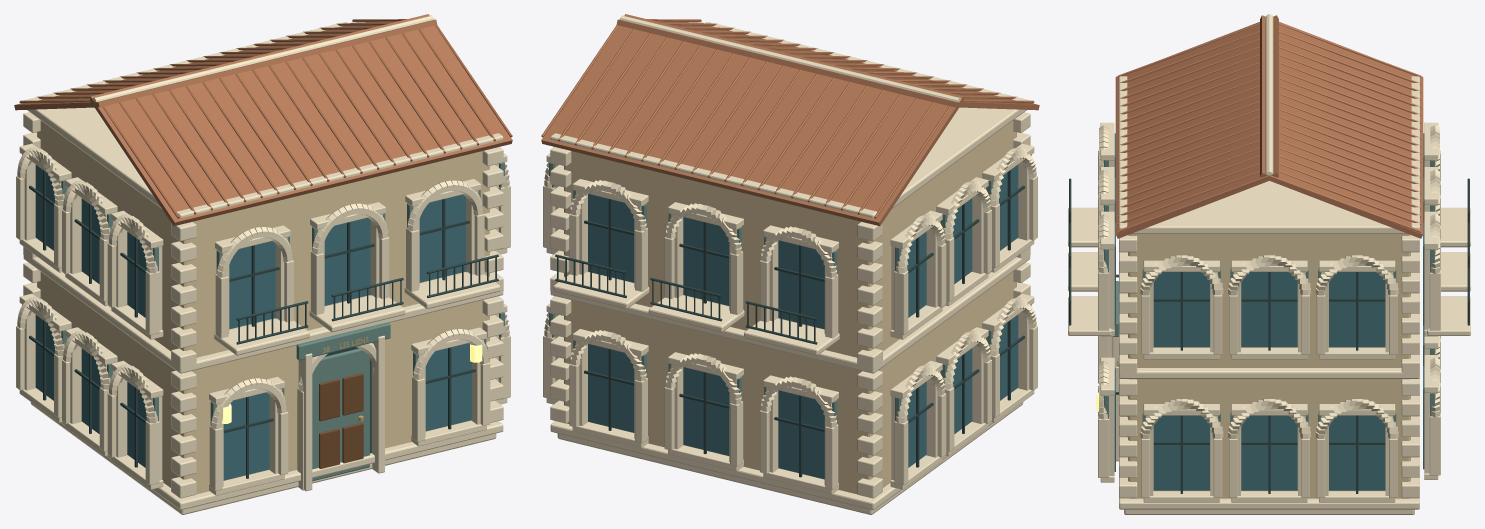
The model's file is espagne-2.glb.
3 renders of one model, left to right at view 1: azimuth 30°, elevation 25°; view 2: azimuth 150°, elevation 25°; view 3: azimuth 270°, elevation 25°, orthographic. The views are drawn at different scales.
Parts seen in each view (by area): view 1: espagne-2_Dressed stone.006, espagne-2_Regional roof.006, espagne-2_Masonry plaster.006, espagne-2_Window blue, espagne-2_Forged midnight, espagne-2_Regional painted wood.006, espagne-2_Walnut; view 2: espagne-2_Dressed stone.006, espagne-2_Regional roof.006, espagne-2_Masonry plaster.006, espagne-2_Window blue, espagne-2_Forged midnight, espagne-2_Regional painted wood.006; view 3: espagne-2_Dressed stone.006, espagne-2_Regional roof.006, espagne-2_Window blue, espagne-2_Masonry plaster.006, espagne-2_Forged midnight, espagne-2_Regional painted wood.006.
Part boxes in pixels (bbox=[...]): espagne-2_Dressed stone.006: bbox=[16, 15, 510, 514]; espagne-2_Regional roof.006: bbox=[14, 14, 512, 226]; espagne-2_Masonry plaster.006: bbox=[37, 120, 489, 494]; espagne-2_Window blue: bbox=[35, 165, 471, 480]; espagne-2_Forged midnight: bbox=[29, 170, 498, 478]; espagne-2_Regional painted wood.006: bbox=[22, 154, 504, 481]; espagne-2_Walnut: bbox=[319, 373, 363, 468]; espagne-2_Dressed stone.006: bbox=[543, 15, 1037, 514]; espagne-2_Regional roof.006: bbox=[541, 14, 1039, 226]; espagne-2_Masonry plaster.006: bbox=[564, 120, 1016, 494]; espagne-2_Window blue: bbox=[588, 165, 1018, 479]; espagne-2_Forged midnight: bbox=[555, 170, 1024, 477]; espagne-2_Regional painted wood.006: bbox=[549, 154, 1031, 424]; espagne-2_Dressed stone.006: bbox=[1068, 14, 1470, 514]; espagne-2_Regional roof.006: bbox=[1115, 15, 1423, 238]; espagne-2_Window blue: bbox=[1114, 133, 1424, 490]; espagne-2_Masonry plaster.006: bbox=[1128, 234, 1410, 498]; espagne-2_Forged midnight: bbox=[1069, 178, 1469, 493]; espagne-2_Regional painted wood.006: bbox=[1104, 160, 1434, 426].
Size of the model in its own units: 14.12 by 13.63 by 14.25.
